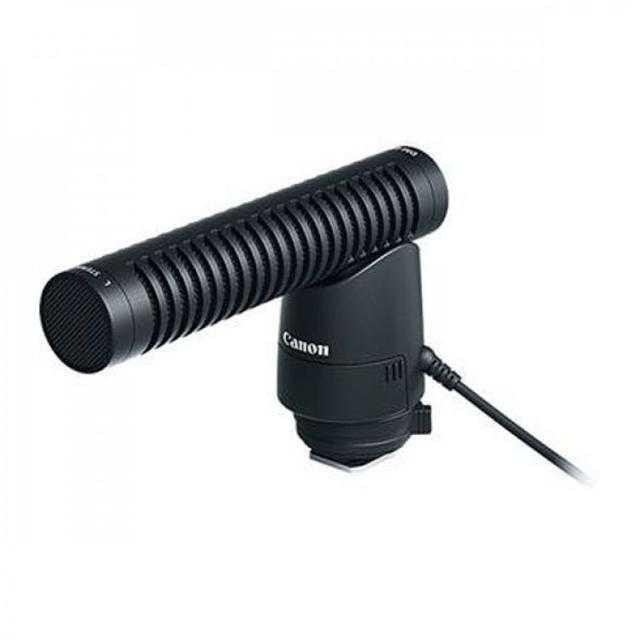microphone: (38, 120, 438, 381)
